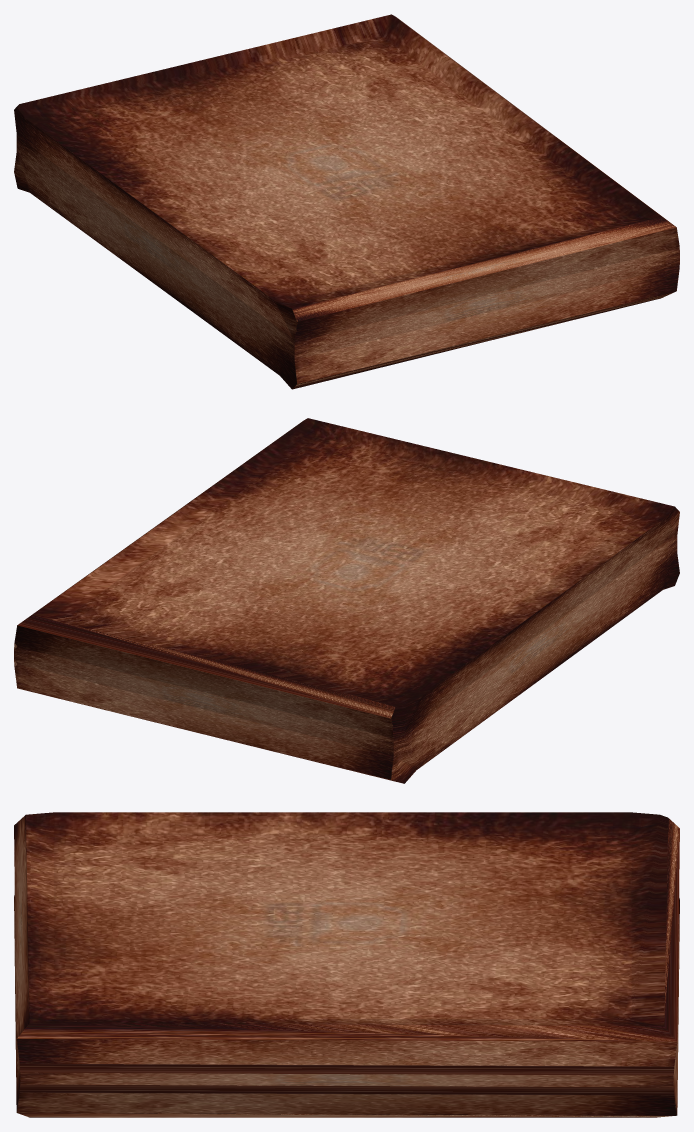
The model's file is Book tome.FBX.
3 views of the same model, one above another, from view 1: azimuth 30°, elevation 25°; view 2: azimuth 150°, elevation 25°; view 3: azimuth 270°, elevation 25° (orthographic). The views are drawn at different scales.
Parts seen in each view (by area): view 1: Box01; view 2: Box01; view 3: Box01.
Boxes of the visible parts, x1=… form: Box01: x1=14, y1=14, x2=679, y2=389; Box01: x1=14, y1=418, x2=679, y2=783; Box01: x1=14, y1=812, x2=679, y2=1117.
Size of the model in its own units: 59.78 by 11.81 by 75.56.
1 material, 1 textured.
